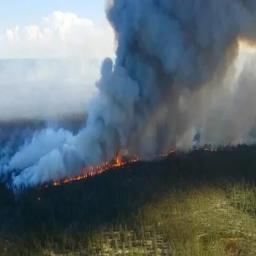Heavy smoke: (0, 0, 256, 200)
